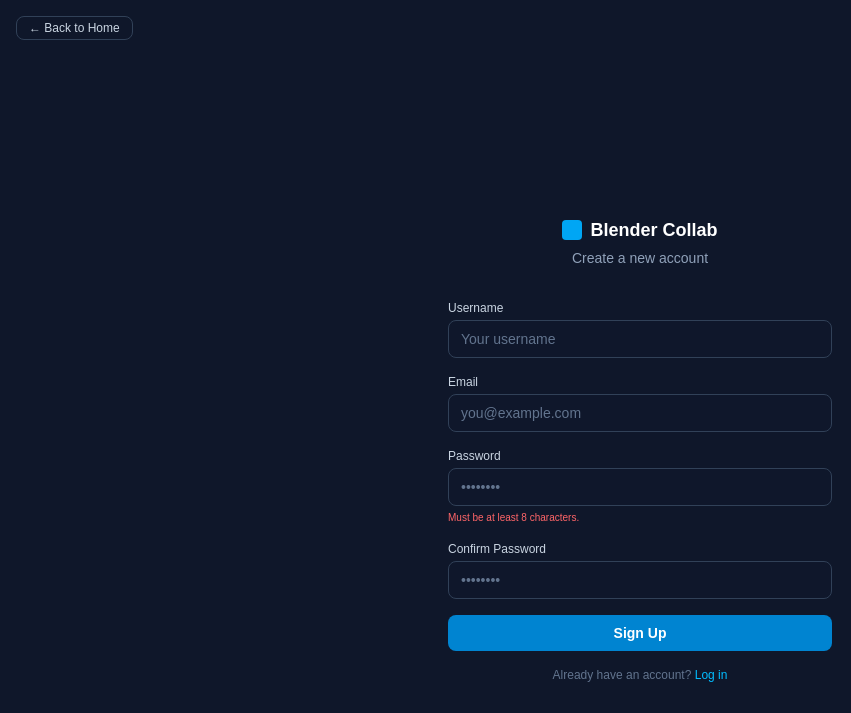
Test: SignupPage › shows error when passwords don't match
The width and height of the screenshot is (851, 713).
Type "testuser" into the field with placeholder "Your username" at (640, 338), box [448,320,832,358]
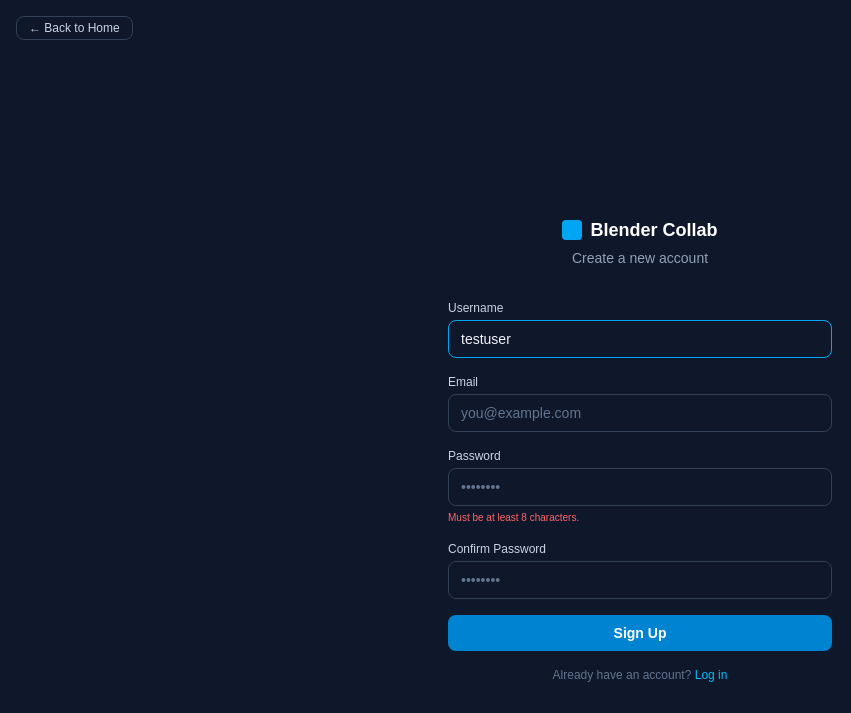
Type "test@example.com" into the field with placeholder "you@example.com" at (640, 412), box [448,394,832,432]
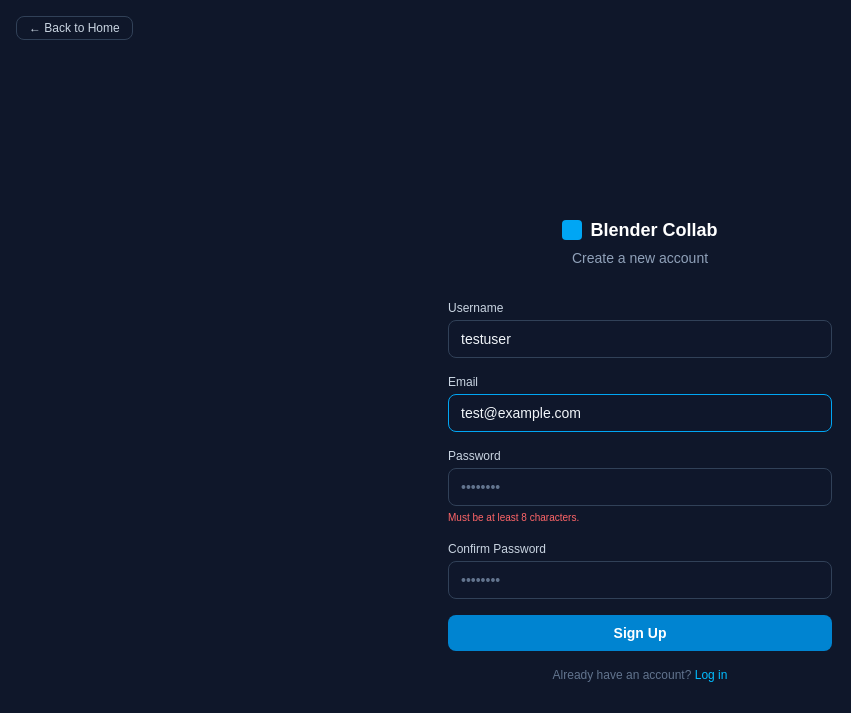
Type "password123" into the 1st password field with placeholder "••••••••" at (640, 486), box [448,468,832,506]
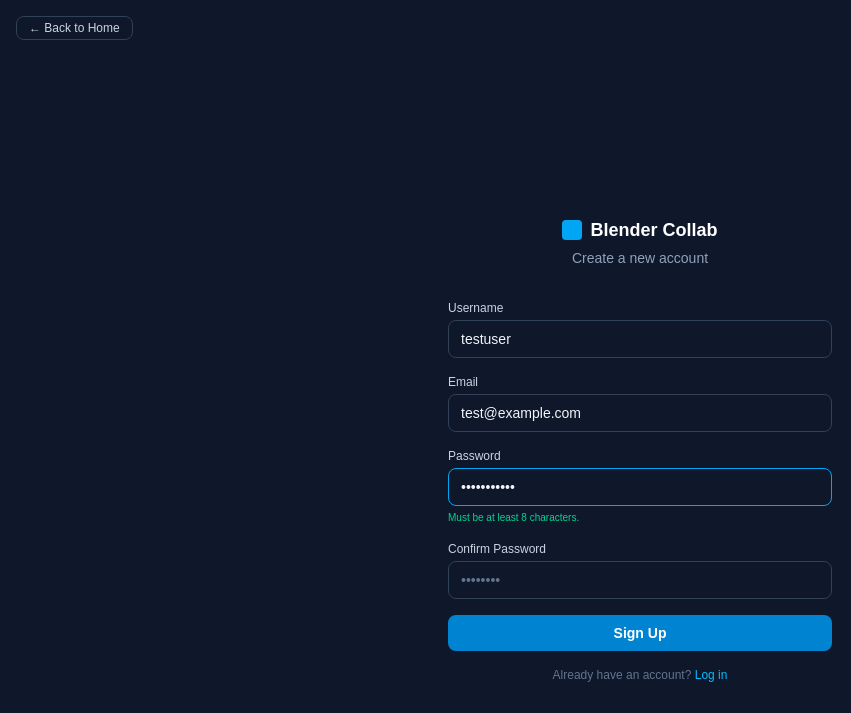
Type "differentpassword" into the password field with placeholder "••••••••" at (640, 580), box [448,560,832,598]
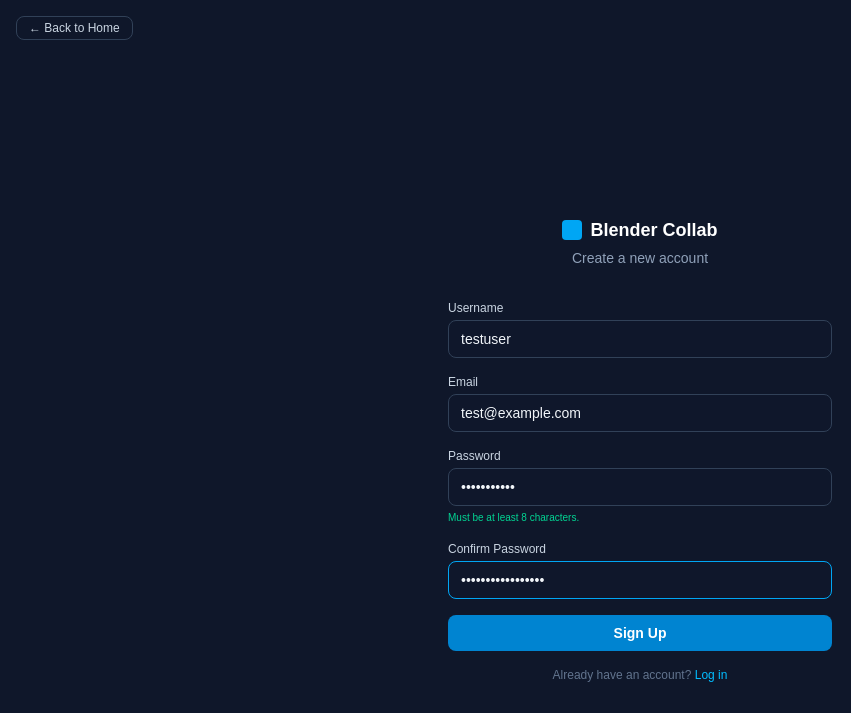
Click the button "Sign Up" at (640, 632), box [448,614,832,650]
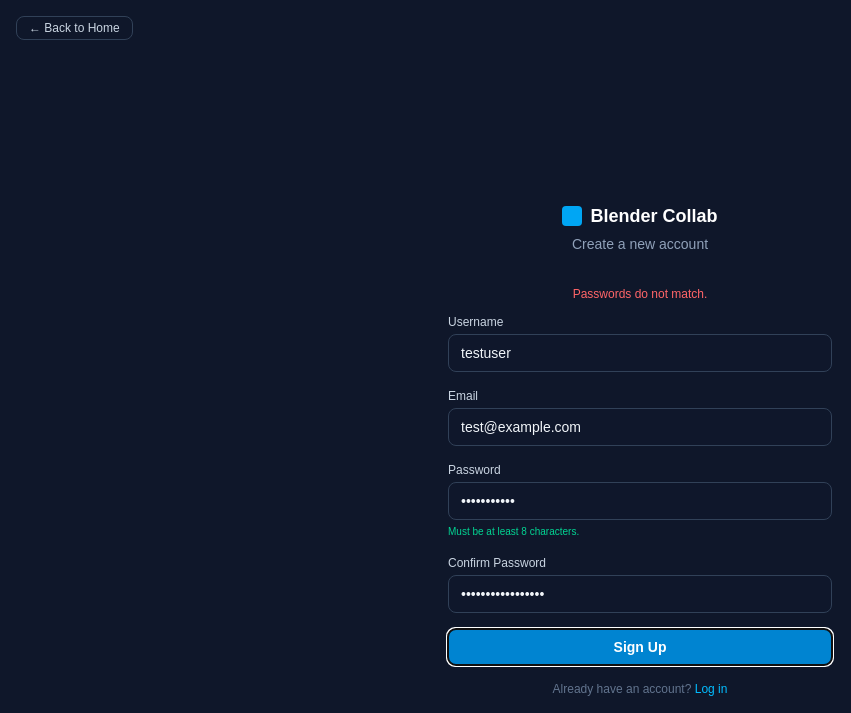
Expected: the text "Passwords do not match." is shown, [573,286,707,300]
